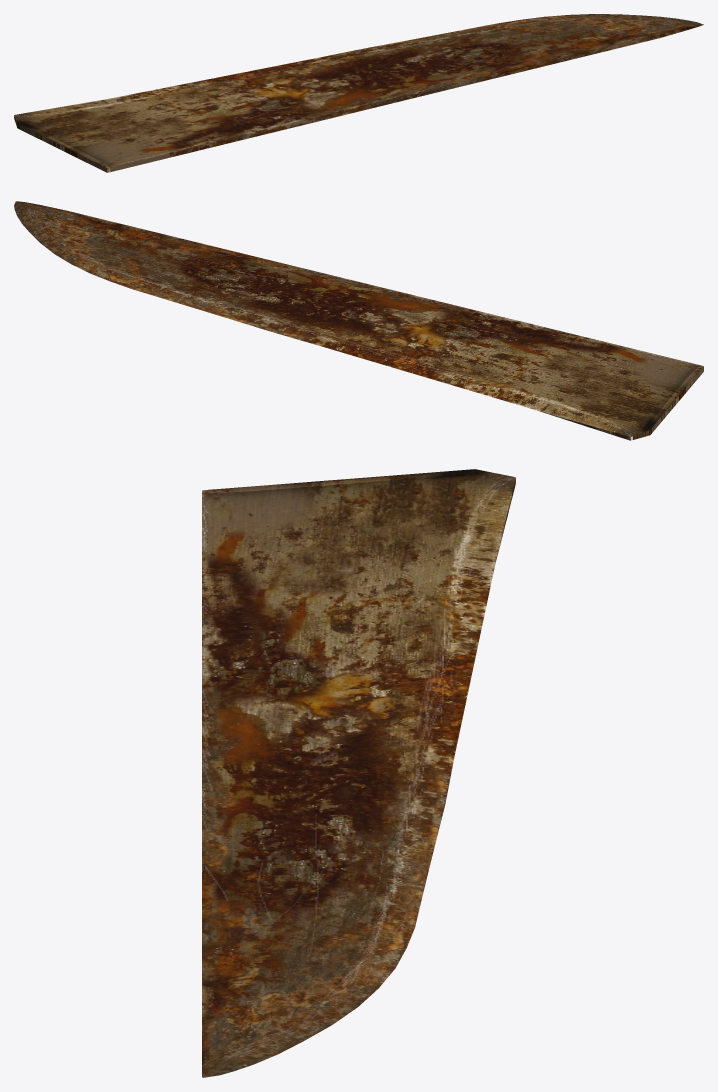
File: Knife blade.fbx
3 renders of one model, top to bottom at view 1: azimuth 30°, elevation 25°; view 2: azimuth 150°, elevation 25°; view 3: azimuth 270°, elevation 25°, orthographic. The views are drawn at different scales.
Parts seen in each view (by area): view 1: KNIFE; view 2: KNIFE; view 3: KNIFE.
Boxes of the visible parts, x1,y1,x2,y2 form: KNIFE: (14,14,703,172); KNIFE: (14,201,703,440); KNIFE: (202,469,515,1077).
Size of the model in its own units: 1.1 by 0.00821 by 0.2427.
1 material, 1 textured.
